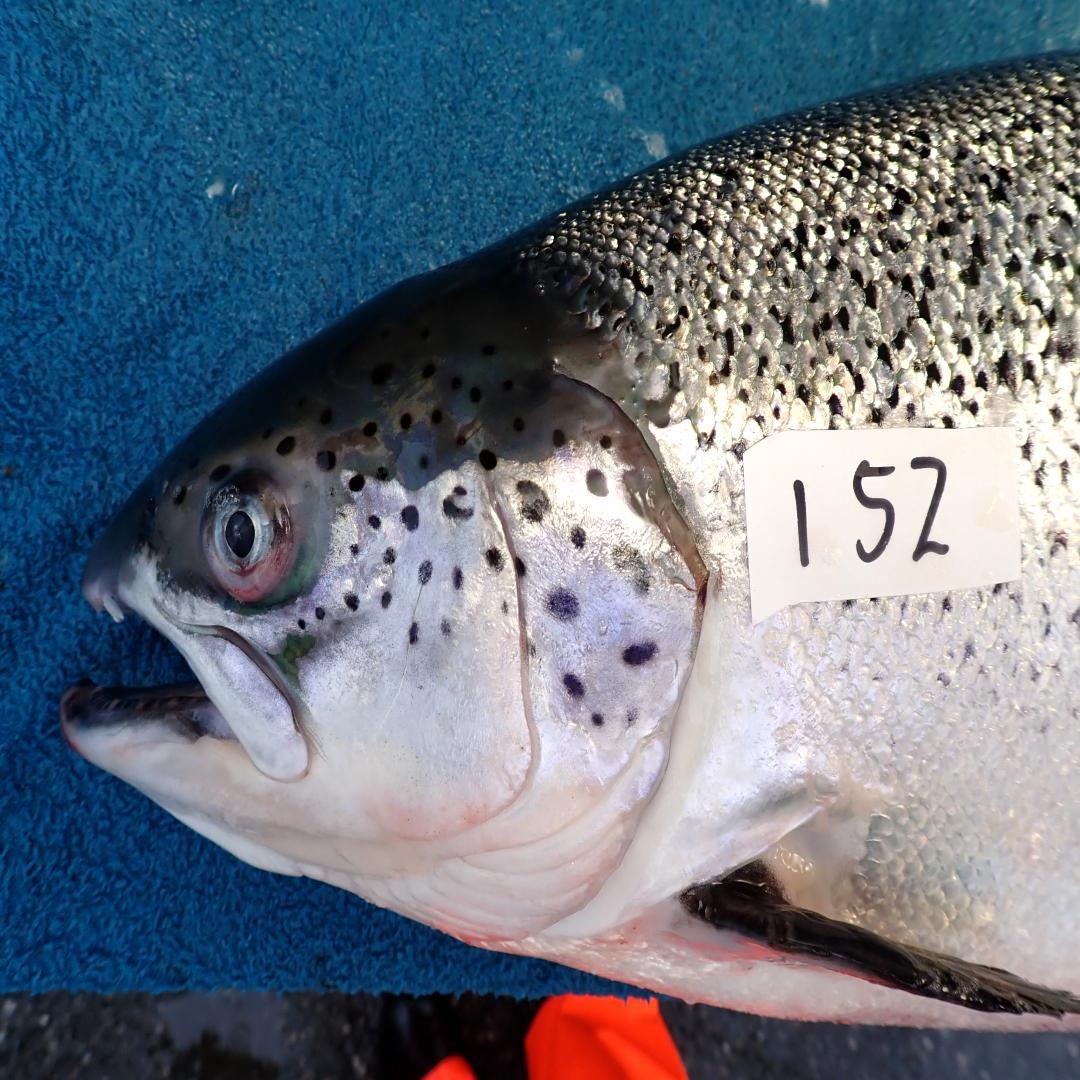roi: (304, 416, 704, 949)
